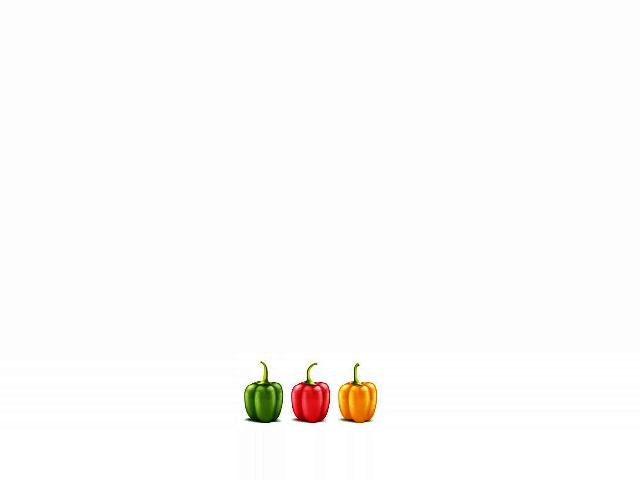bell_pepper: (239, 361, 282, 425)
